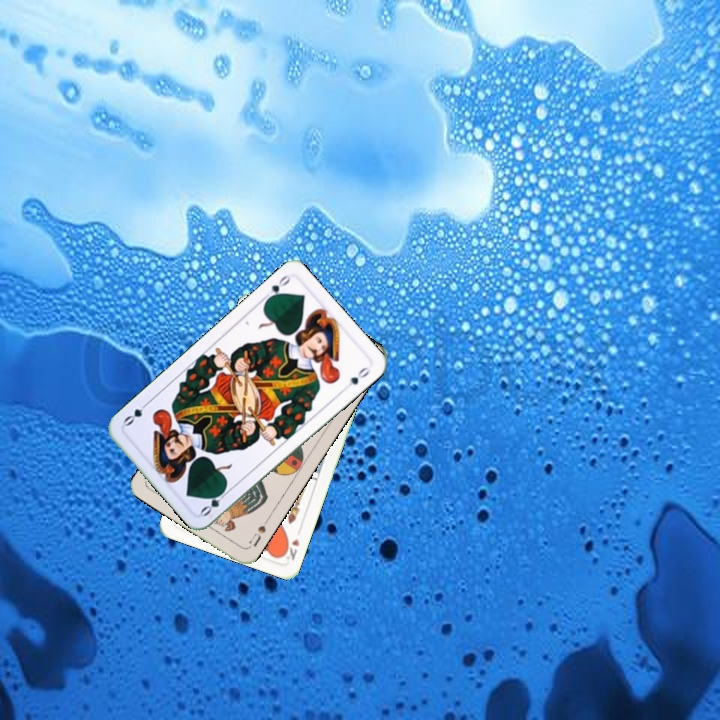GO: (197, 484, 231, 519), (260, 270, 293, 304)
HK: (279, 535, 302, 563)
SU: (244, 514, 271, 550)
